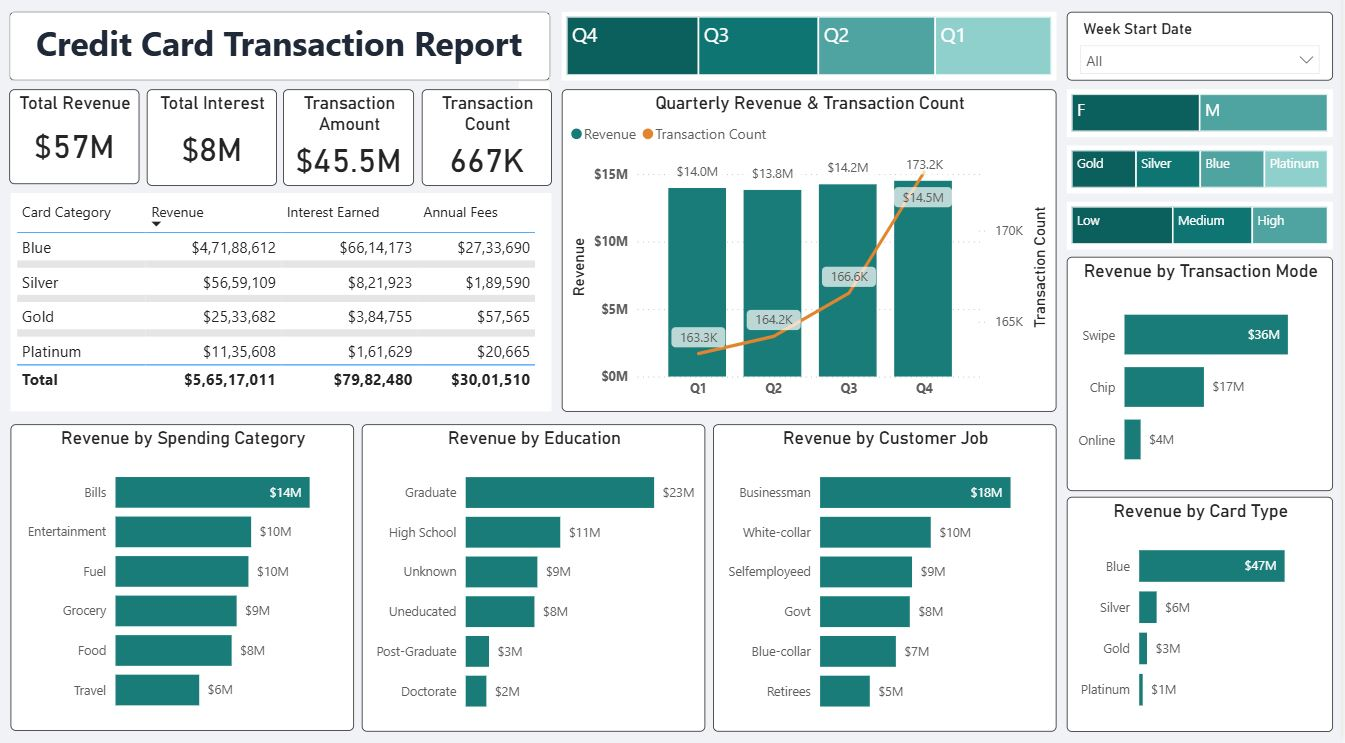

This screenshot's page, from the dashboard's own definition file:
{"tool":"powerbi","page":{"name":"Credit Card Transaction","canvas":[1280,720],"ordinal":0},"visuals":[{"type":"textbox","box":[10.7,22.6,515.5,65.5],"z":0},{"type":"lineStackedColumnComboChart","title":"Quarterly Revenue & Transaction Count","fields":{"Category":["public cc_detail.qtr"],"Y":["Sum(public cc_detail.Revenue)"],"Y2":["Sum(public cc_detail.total_trans_ct)"]},"box":[536.9,96.4,471.4,307.1],"z":1000},{"type":"barChart","title":"Revenue by Spending Category","fields":{"Y":["Sum(public cc_detail.Revenue)"],"Category":["public cc_detail.exp_type"]},"box":[11.9,415.5,327.4,291.7],"z":2000},{"type":"barChart","title":"Revenue by Education","fields":{"Y":["Sum(public cc_detail.Revenue)"],"Category":["public cust_detail.education_level"]},"box":[346.4,415.5,327.4,292.9],"z":3000},{"type":"barChart","title":"Revenue by Customer Job","fields":{"Y":["Sum(public cc_detail.Revenue)"],"Category":["public cust_detail.customer_job"]},"box":[681,415.5,327.4,292.9],"z":4000},{"type":"barChart","title":"Revenue by Card Type","fields":{"Y":["Sum(public cc_detail.Revenue)"],"Category":["public cc_detail.card_category"]},"box":[1017.9,484.5,253.6,223.8],"z":5000},{"type":"barChart","title":"Revenue by Transaction Mode","fields":{"Y":["Sum(public cc_detail.Revenue)"],"Category":["public cc_detail.use_chip"]},"box":[1017.9,256,253.6,223],"z":6000},{"type":"tableEx","fields":{"Values":["public cc_detail.card_category","Sum(public cc_detail.Revenue)","Sum(public cc_detail.interest_earned)","Sum(public cc_detail.annual_fees)"]},"box":[11.9,195.2,515.5,208.3],"z":7000},{"type":"card","title":"Total Revenue","fields":{"Values":["Sum(public cc_detail.Revenue)"]},"box":[10.7,96.4,123.8,90.5],"z":8000},{"type":"card","title":"Total Interest","fields":{"Values":["Sum(public cc_detail.interest_earned)"]},"box":[141.7,96.4,123.8,91.7],"z":9000},{"type":"card","title":"Transaction Amount","fields":{"Values":["Sum(public cc_detail.total_trans_amt)"]},"box":[271.4,96.4,125,91.7],"z":10000},{"type":"card","title":"Transaction Count","fields":{"Values":["Sum(public cc_detail.total_trans_ct)"]},"box":[403.6,96.4,123.8,91.7],"z":11000},{"type":"slicer","fields":{"Values":["public cc_detail.week_start_date"]},"box":[1017.9,22.6,253.6,65.5],"z":12000},{"type":"treemap","fields":{"Group":["public cc_detail.qtr"],"Values":["Avg(public cust_detail.client_num)"]},"box":[536.9,22.6,471.4,65.5],"z":13000},{"type":"treemap","fields":{"Values":["Avg(public cust_detail.client_num)"],"Group":["public cust_detail.gender"]},"box":[1017.9,96.4,253.6,45.2],"z":14000},{"type":"treemap","fields":{"Values":["Avg(public cust_detail.client_num)"],"Group":["public cc_detail.card_category"]},"box":[1017.9,150,253.6,45.2],"z":15000},{"type":"treemap","fields":{"Values":["CountNonNull(public cust_detail.client_num)"],"Group":["public cust_detail.IncomeGroup"]},"box":[1017.9,203.6,253.6,45.2],"z":16000}]}

Visuals, with their boxes in screenshot pixels (x1, y1, x2, y2), scaled from the page's 1280x720 canvas onto the 1345x743 screenshot:
textbox: {"left": 11, "top": 23, "right": 553, "bottom": 91}
"Quarterly Revenue & Transaction Count" lineStackedColumnComboChart: {"left": 564, "top": 99, "right": 1060, "bottom": 416}
"Revenue by Spending Category" barChart: {"left": 13, "top": 429, "right": 357, "bottom": 730}
"Revenue by Education" barChart: {"left": 364, "top": 429, "right": 708, "bottom": 731}
"Revenue by Customer Job" barChart: {"left": 716, "top": 429, "right": 1060, "bottom": 731}
"Revenue by Card Type" barChart: {"left": 1070, "top": 500, "right": 1336, "bottom": 731}
"Revenue by Transaction Mode" barChart: {"left": 1070, "top": 264, "right": 1336, "bottom": 494}
tableEx - public cc_detail.card_category x Sum(public cc_detail.Revenue): {"left": 13, "top": 201, "right": 554, "bottom": 416}
"Total Revenue" card: {"left": 11, "top": 99, "right": 141, "bottom": 193}
"Total Interest" card: {"left": 149, "top": 99, "right": 279, "bottom": 194}
"Transaction Amount" card: {"left": 285, "top": 99, "right": 417, "bottom": 194}
"Transaction Count" card: {"left": 424, "top": 99, "right": 554, "bottom": 194}
slicer - public cc_detail.week_start_date: {"left": 1070, "top": 23, "right": 1336, "bottom": 91}
treemap - public cc_detail.qtr x Avg(public cust_detail.client_num): {"left": 564, "top": 23, "right": 1060, "bottom": 91}
treemap - Avg(public cust_detail.client_num) x public cust_detail.gender: {"left": 1070, "top": 99, "right": 1336, "bottom": 146}
treemap - Avg(public cust_detail.client_num) x public cc_detail.card_category: {"left": 1070, "top": 155, "right": 1336, "bottom": 201}
treemap - CountNonNull(public cust_detail.client_num) x public cust_detail.IncomeGroup: {"left": 1070, "top": 210, "right": 1336, "bottom": 257}
